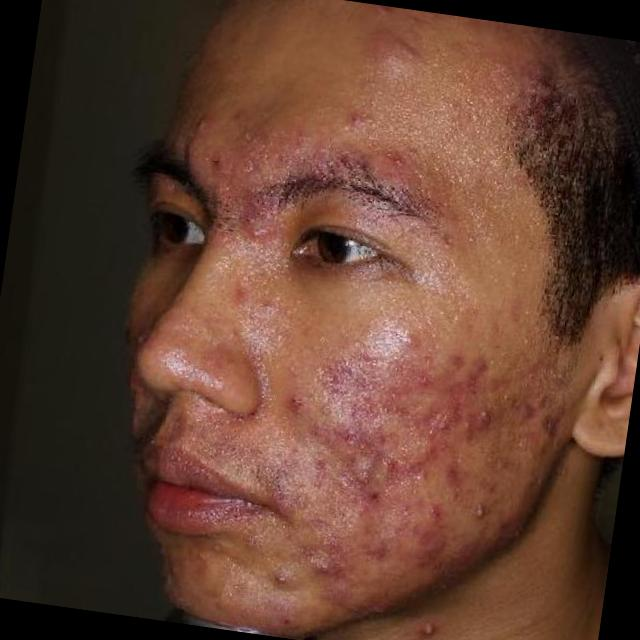blackhead: (359, 484, 388, 509)
nodules: (349, 19, 438, 87), (396, 504, 464, 576), (232, 177, 290, 244), (464, 494, 502, 530), (264, 564, 299, 601), (413, 613, 448, 640)
